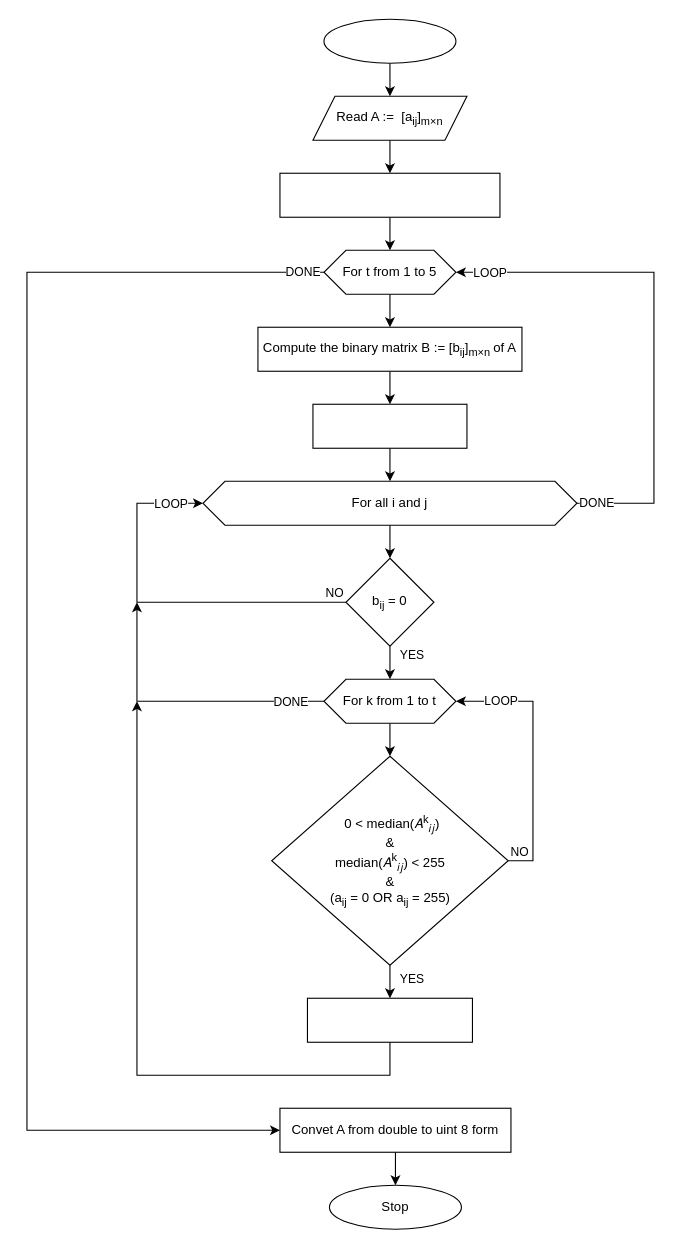
Image size: 682x1249. Some labels were removed from this diagram. The shapes that lost their labels are listed below. From the top down, each one's box as (x1, y1, x2, y2) in pixels, then its label:
(323, 18, 456, 63): Start
(279, 172, 500, 217): Convert from uint8 to double form
(312, 403, 467, 448): Compute 𝐴̿ t and 𝐵̿ t
(306, 997, 472, 1042): 𝑎𝑖𝑗 ← (Riesz mean of 𝐴 k 𝑖𝑗 )
